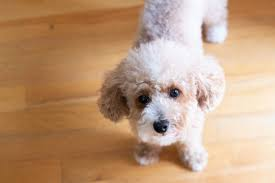Poodle: (84, 1, 261, 177)
